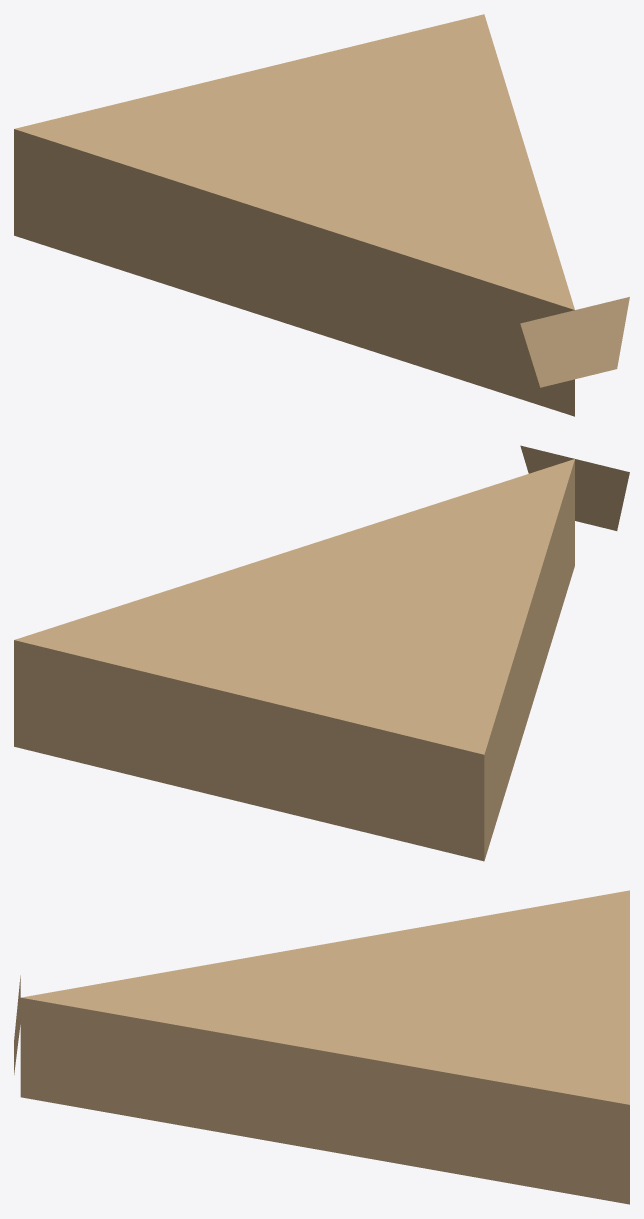
The model's file is PizzaSliceBox.glb.
3 renders of one model, top to bottom at view 1: azimuth 30°, elevation 25°; view 2: azimuth 150°, elevation 25°; view 3: azimuth 270°, elevation 25°, orthographic. The views are drawn at different scales.
Parts seen in each view (by area): view 1: Lid, Tray; view 2: Lid, Tray; view 3: Lid, Tray.
Part boxes in pixels (left/top/right/bottom): Lid: left=14, top=14, right=629, bottom=387; Tray: left=14, top=129, right=574, bottom=416; Lid: left=14, top=445, right=629, bottom=810; Tray: left=14, top=462, right=574, bottom=861; Lid: left=14, top=890, right=629, bottom=1158; Tray: left=20, top=997, right=629, bottom=1204.
Bounding box in the file's own units: 3 × 0.65 × 3.64.
